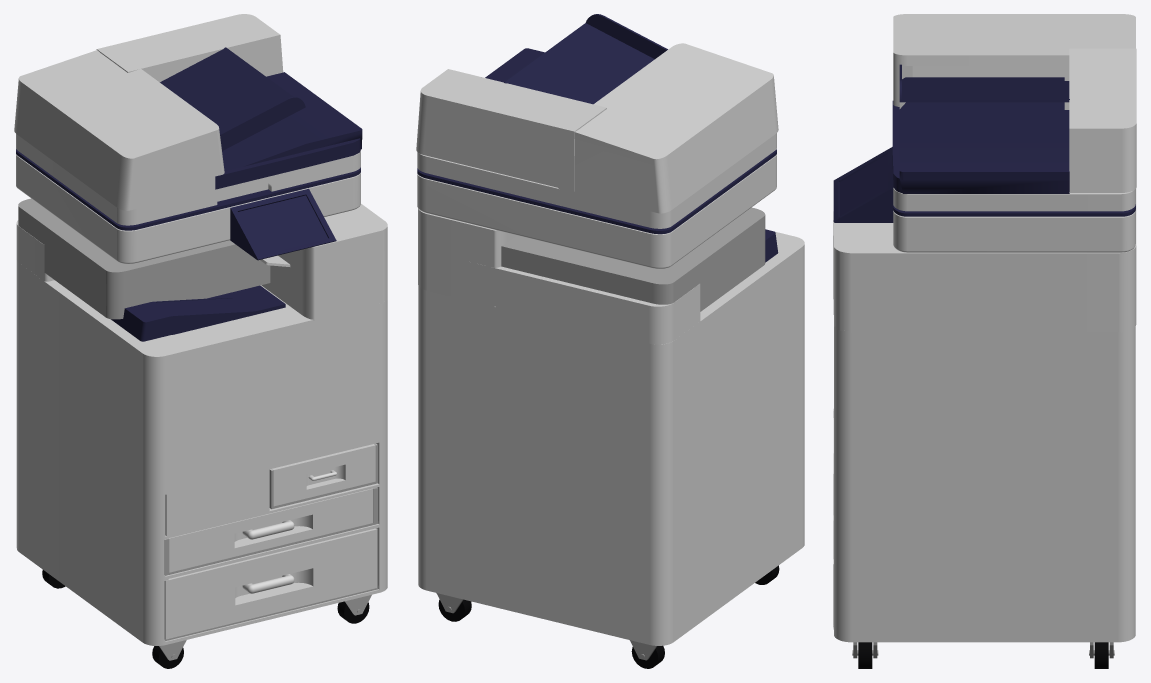
File: Printer 1.fbx
3 renders of one model, left to right at view 1: azimuth 30°, elevation 25°; view 2: azimuth 150°, elevation 25°; view 3: azimuth 270°, elevation 25°, orthographic. The views are drawn at different scales.
Parts seen in each view (by area): view 1: polySurface16, polySurface1, group8_pCube25, pCube2, polySurface6, polySurface8, polySurface4, group7_pCube25, polySurface5, polySurface9, polySurface11, polySurface2 (+6 smaller); view 2: polySurface16, polySurface1, polySurface9, polySurface8, pCube2, polySurface14, polySurface5, polySurface11, polySurface6, polySurface15, polySurface10, polySurface4; view 3: polySurface16, polySurface6, polySurface4, polySurface1, polySurface9, polySurface8, polySurface5, polySurface11, polySurface2, polySurface10.
Part boxes in pixels (bbox=[...]): polySurface16: bbox=[16, 260, 387, 645]; polySurface1: bbox=[14, 50, 224, 210]; group8_pCube25: bbox=[165, 528, 376, 639]; pCube2: bbox=[18, 198, 270, 319]; polySurface6: bbox=[261, 204, 387, 320]; polySurface8: bbox=[16, 154, 360, 263]; polySurface4: bbox=[215, 72, 362, 189]; group7_pCube25: bbox=[165, 488, 373, 572]; polySurface5: bbox=[160, 47, 305, 150]; polySurface9: bbox=[96, 14, 283, 82]; polySurface11: bbox=[16, 134, 360, 225]; polySurface2: bbox=[230, 188, 336, 260]; polySurface16: bbox=[418, 231, 804, 645]; polySurface1: bbox=[558, 43, 778, 213]; polySurface9: bbox=[416, 69, 606, 191]; polySurface8: bbox=[417, 154, 776, 268]; pCube2: bbox=[501, 207, 765, 311]; polySurface14: bbox=[468, 262, 700, 344]; polySurface5: bbox=[504, 14, 667, 104]; polySurface11: bbox=[417, 133, 776, 228]; polySurface6: bbox=[418, 208, 516, 307]; polySurface15: bbox=[541, 462, 648, 531]; polySurface10: bbox=[417, 149, 776, 234]; polySurface4: bbox=[485, 48, 544, 82]; polySurface16: bbox=[834, 326, 1135, 642]; polySurface6: bbox=[833, 211, 1136, 332]; polySurface4: bbox=[892, 101, 1069, 193]; polySurface1: bbox=[893, 14, 1135, 109]; polySurface9: bbox=[1069, 48, 1136, 192]; polySurface8: bbox=[893, 210, 1135, 252]; polySurface5: bbox=[899, 64, 1069, 102]; polySurface11: bbox=[893, 188, 1135, 211]; polySurface2: bbox=[833, 147, 893, 222]; polySurface10: bbox=[893, 204, 1135, 216].
Bounding box in the file's own units: 1 × 2.06 × 1.01.
